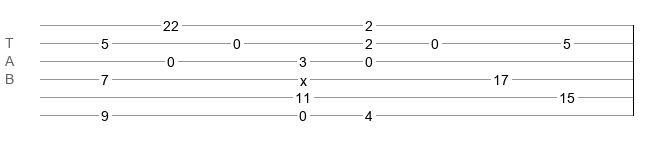0: (167, 54, 175, 64), (233, 36, 241, 46), (299, 108, 307, 118), (365, 54, 373, 64), (431, 36, 439, 46)
11: (295, 90, 311, 100)
15: (559, 90, 575, 100)
17: (493, 72, 509, 82)
2: (365, 18, 373, 28), (365, 36, 373, 46)
22: (163, 18, 179, 28)
3: (299, 54, 307, 64)
4: (365, 108, 373, 118)
5: (101, 36, 109, 46), (563, 36, 571, 46)
7: (101, 72, 109, 82)
9: (101, 108, 109, 118)
x: (300, 73, 307, 81)
